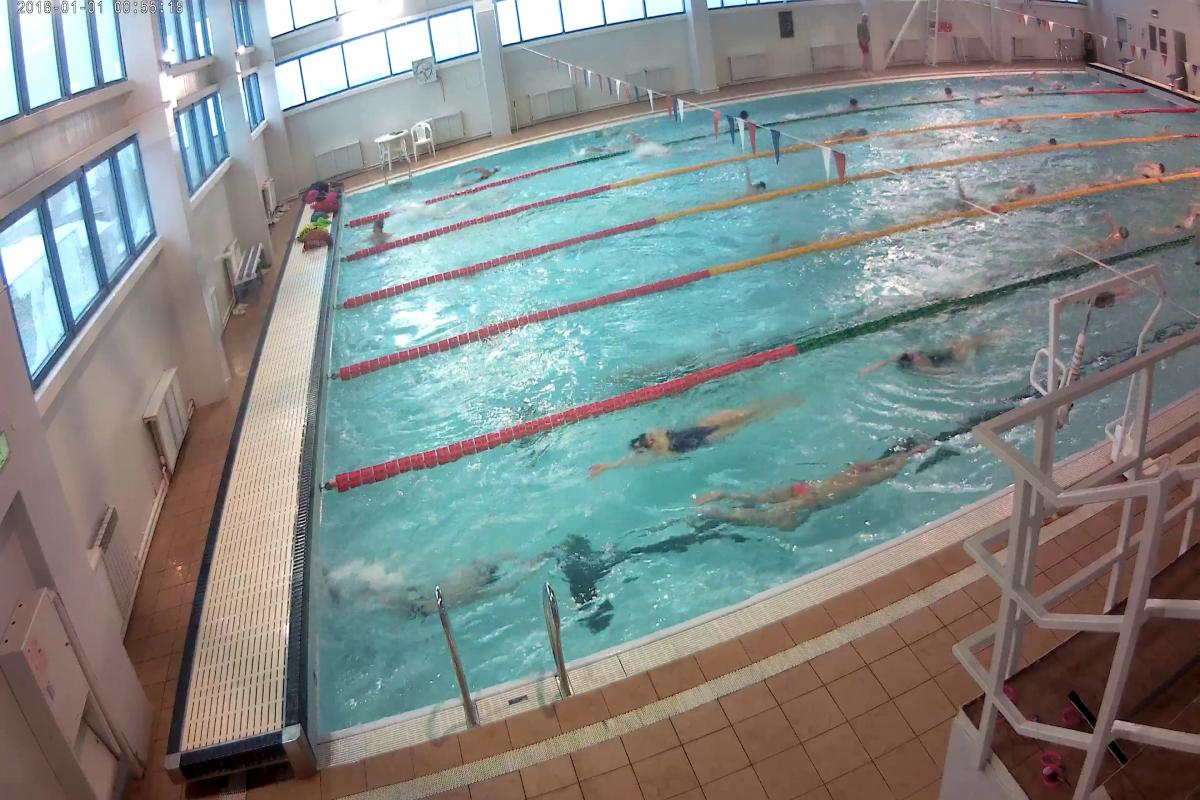swimmer: (714, 452, 903, 542), (592, 389, 783, 464), (362, 550, 519, 618), (854, 322, 995, 388), (1065, 218, 1132, 264), (359, 218, 395, 251), (996, 175, 1040, 202), (739, 168, 770, 204), (1127, 153, 1172, 176), (835, 116, 872, 136)
